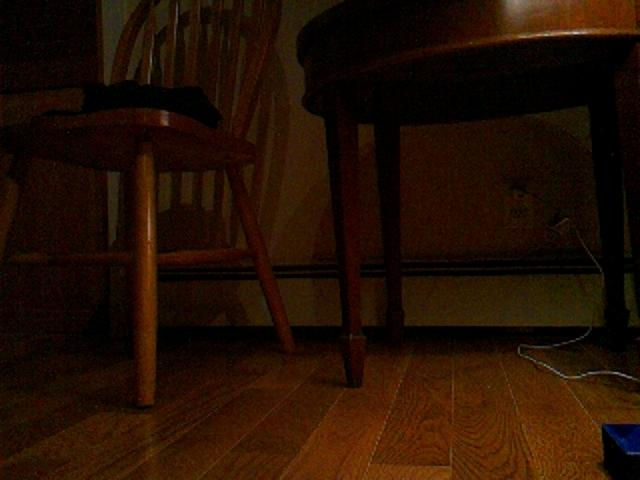blue: (600, 420, 640, 480)
